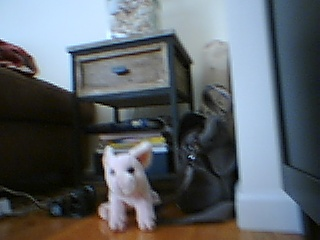piggy: (96, 141, 162, 233)
